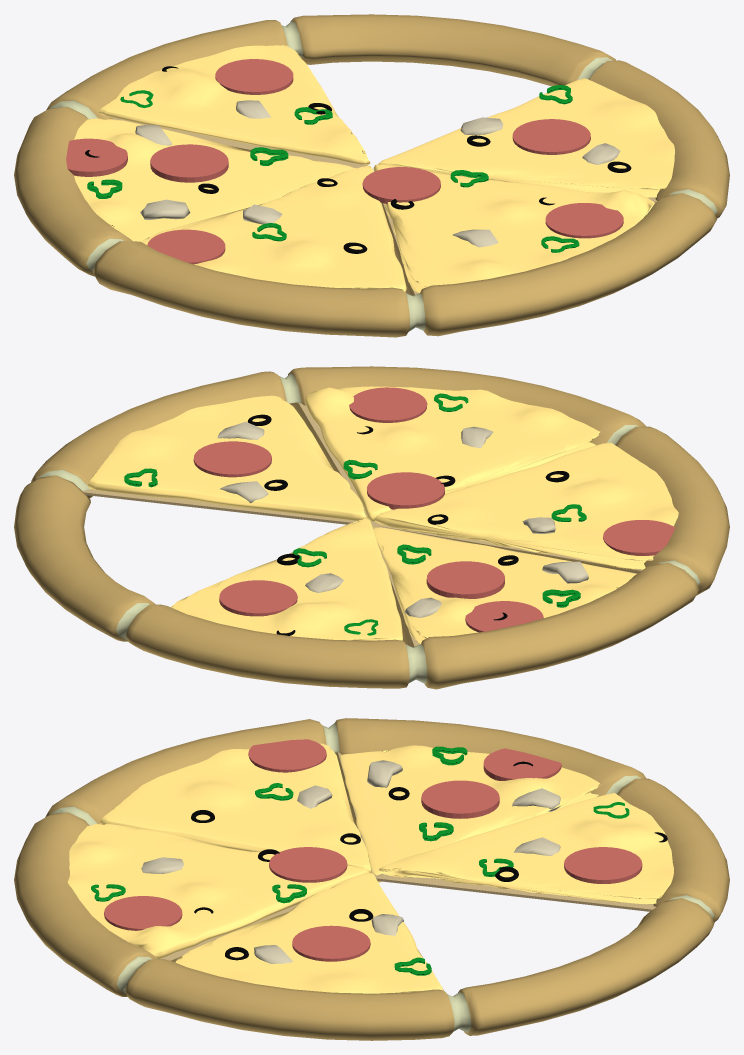
File: Pizza.fbx
3 renders of one model, top to bottom at view 1: azimuth 30°, elevation 25°; view 2: azimuth 150°, elevation 25°; view 3: azimuth 270°, elevation 25°, orthographic.
Parts seen in each view (by area): view 1: Pizza; view 2: Pizza; view 3: Pizza.
Boxes of the visible parts, left/top/right/bottom form: Pizza: left=14, top=14, right=729, bottom=337; Pizza: left=14, top=366, right=729, bottom=689; Pizza: left=14, top=718, right=729, bottom=1040.
Size of the model in its own units: 284 by 21.72 by 283.
